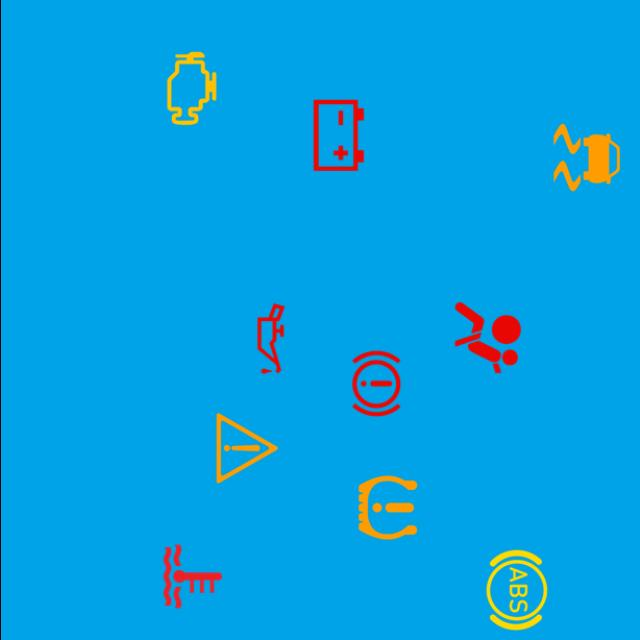Anti Lock Braking System: (472, 546, 560, 634)
Braking System Issue: (331, 340, 419, 428)
Charging System Issue: (294, 92, 382, 180)
Check Engine: (146, 44, 235, 132)
Electronic Stability Problem -ESP-: (542, 114, 630, 202)
Engine Overheating Warning Light: (148, 532, 236, 620)
Low Engine Oil Warning Light: (226, 295, 314, 383)
Low Tire Pressure Warning Light: (342, 464, 430, 552)
Master warning light: (202, 404, 290, 492)
SRS-Airbag: (443, 294, 531, 382)
